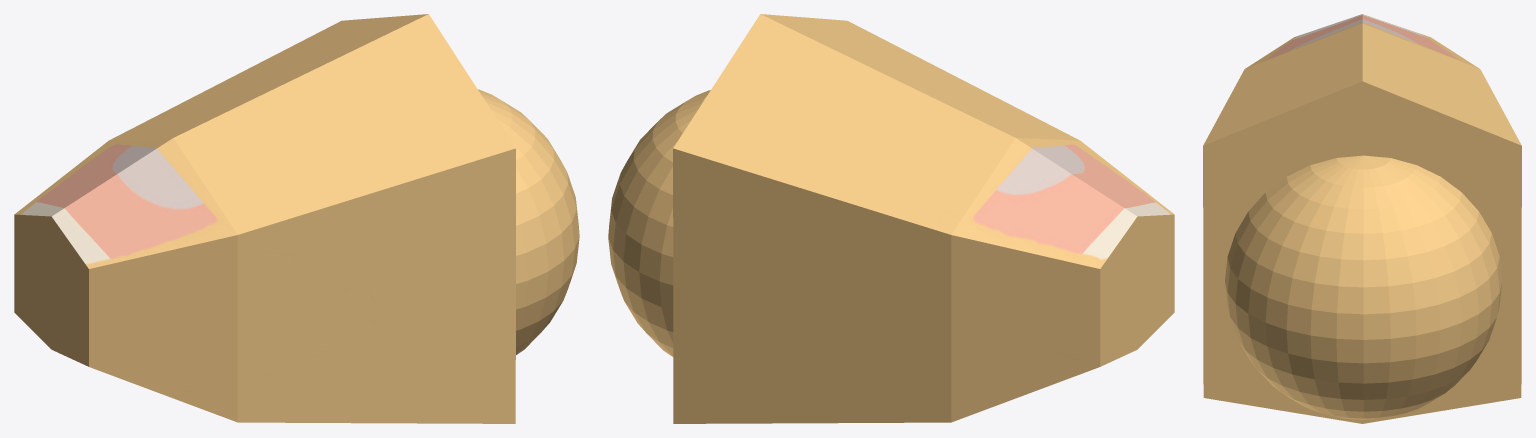
The model's file is R_finger3_1.obj.
The picture shows the model from 3 angles, left to right: view 1: azimuth 30°, elevation 25°; view 2: azimuth 150°, elevation 25°; view 3: azimuth 270°, elevation 25°; orthographic projection. The views are drawn at different scales.
Visible parts, largest first — view 1: finger3_1球.001_球.000; view 2: finger3_1球.001_球.000; view 3: finger3_1球.001_球.000.
Boxes of the visible parts, x1=… form: finger3_1球.001_球.000: x1=14, y1=14, x2=579, y2=423; finger3_1球.001_球.000: x1=608, y1=14, x2=1174, y2=423; finger3_1球.001_球.000: x1=1203, y1=14, x2=1521, y2=423.
Size of the model in its own units: 0.5542 by 0.3902 by 0.3291.
